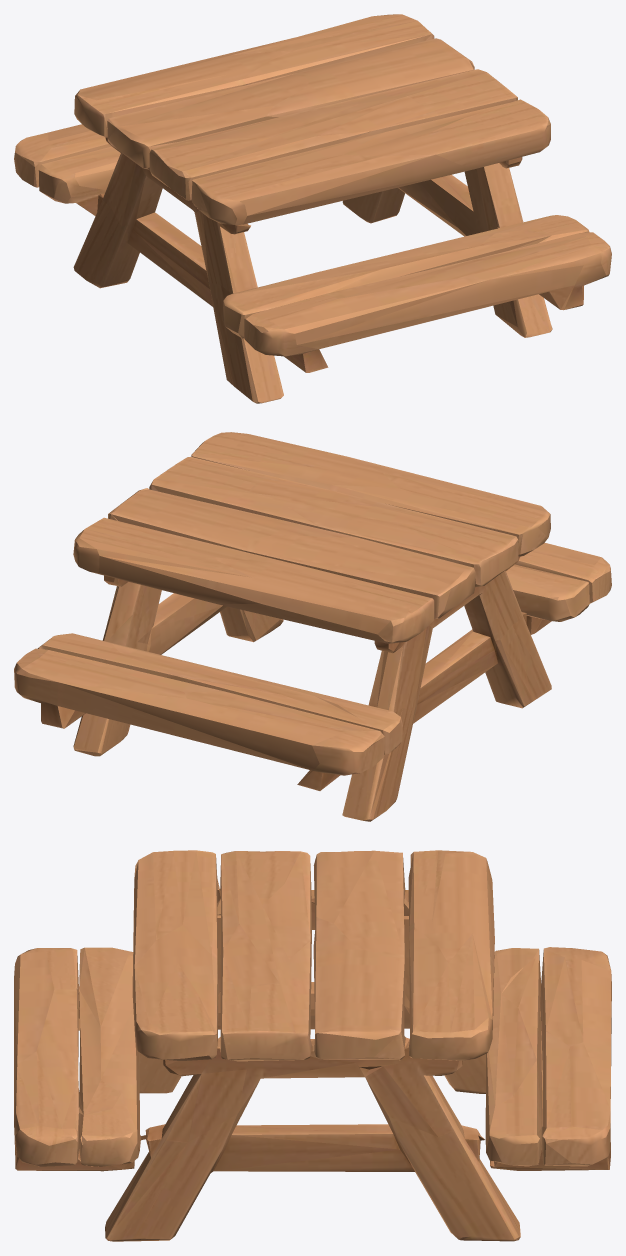
Rendered from deco-picnic-table.glb.
The picture shows the model from 3 angles, top to bottom: view 1: azimuth 30°, elevation 25°; view 2: azimuth 150°, elevation 25°; view 3: azimuth 270°, elevation 25°; orthographic projection. The views are drawn at different scales.
Visible parts, largest first — view 1: deco-picnic-table-fit; view 2: deco-picnic-table-fit; view 3: deco-picnic-table-fit.
Boxes of the visible parts, <box> form: deco-picnic-table-fit: <box>14,14,611,403</box>; deco-picnic-table-fit: <box>14,432,611,821</box>; deco-picnic-table-fit: <box>14,850,611,1241</box>.
Size of the model in its own units: 1.53 by 0.8202 by 2.
1 material, 1 textured.
